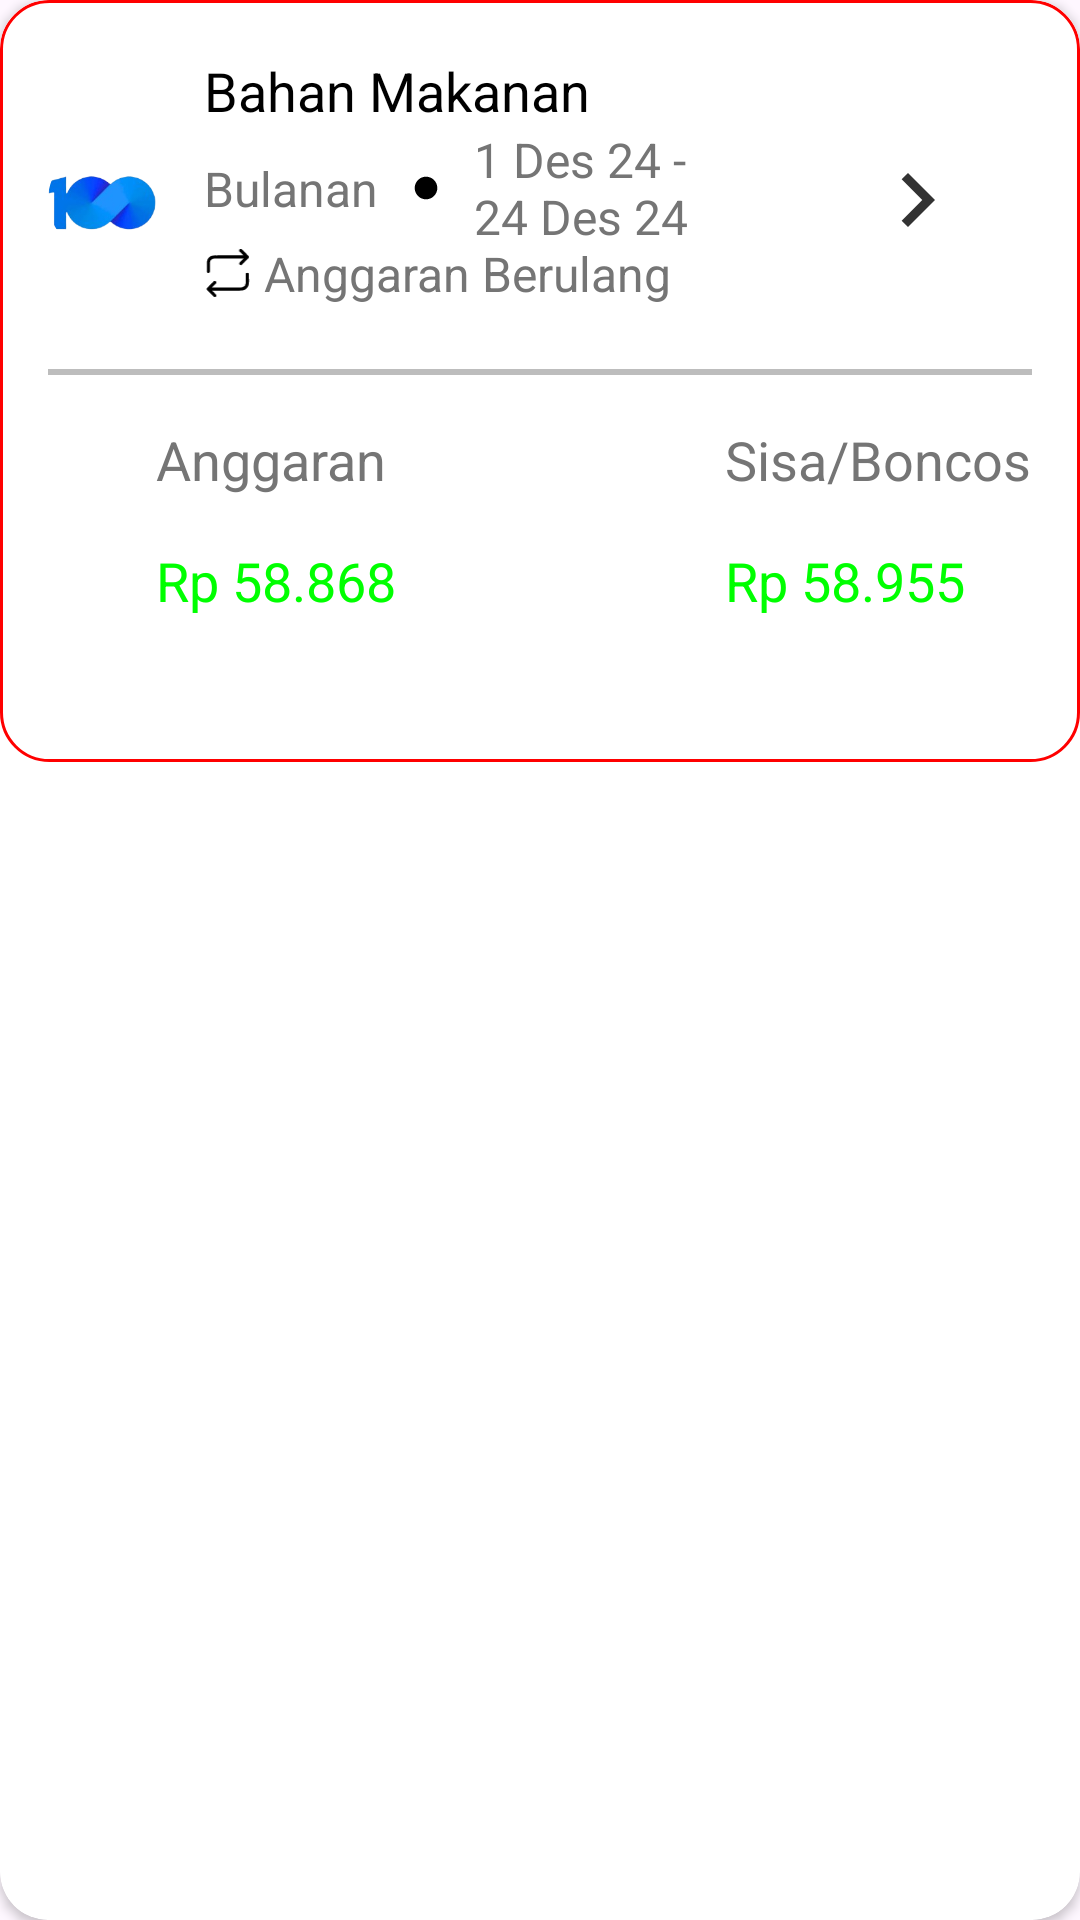

Screen size 1080px×1920px. Icon name, then its center in pixels as point (x, y):
next detail: point (918, 200)
